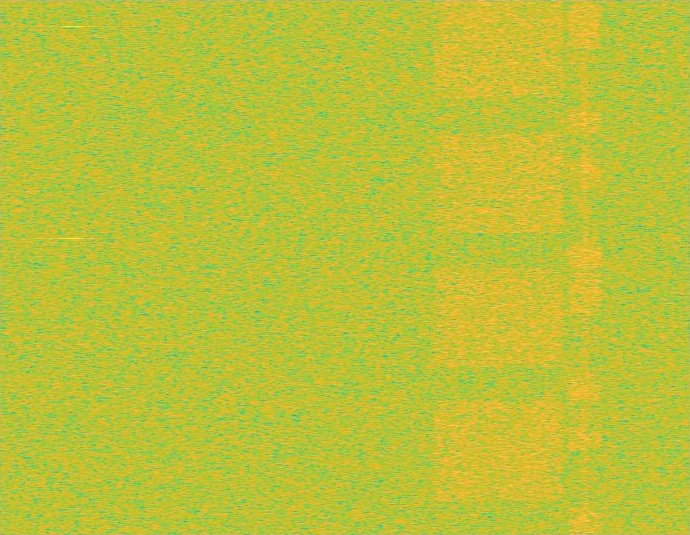5G: (430, 0, 568, 534)
DSSS: (581, 0, 589, 534)
LTE: (568, 0, 603, 534)
Radar: (65, 0, 79, 534)
